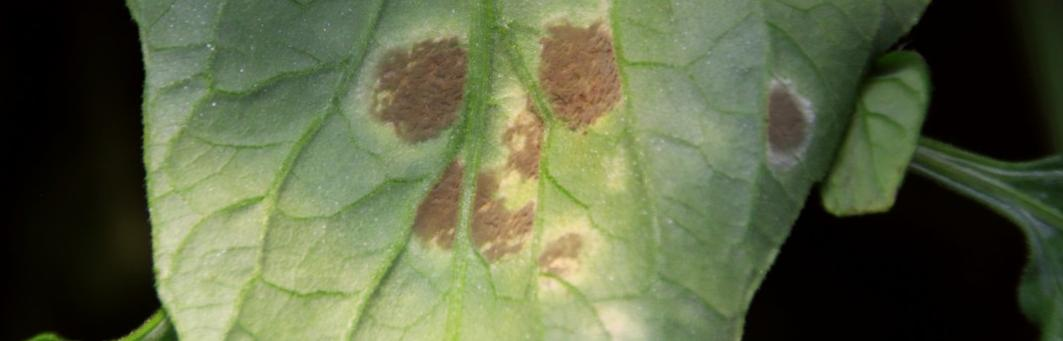Tomato mold leaf: (98, 0, 930, 341)
